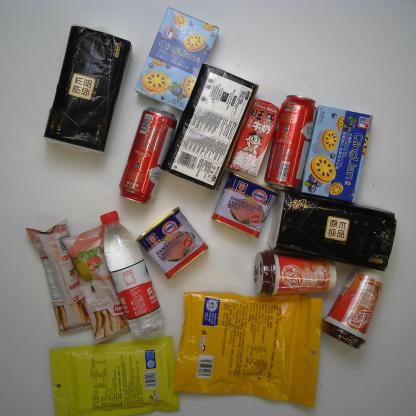Alcohol: (115, 105, 179, 207), (262, 93, 318, 193)
Canned Food: (134, 206, 210, 282), (210, 169, 280, 240)
Dessert: (134, 6, 221, 112), (60, 223, 133, 346), (23, 218, 94, 335), (298, 104, 374, 205)
Dried Fruit: (172, 290, 324, 411), (48, 335, 180, 415)
Drink: (98, 210, 167, 340)
Instant Drink: (320, 267, 385, 350), (251, 249, 339, 301)
Milk: (227, 98, 281, 178)
Tissue: (159, 60, 261, 194), (41, 22, 133, 158), (266, 187, 399, 274)
